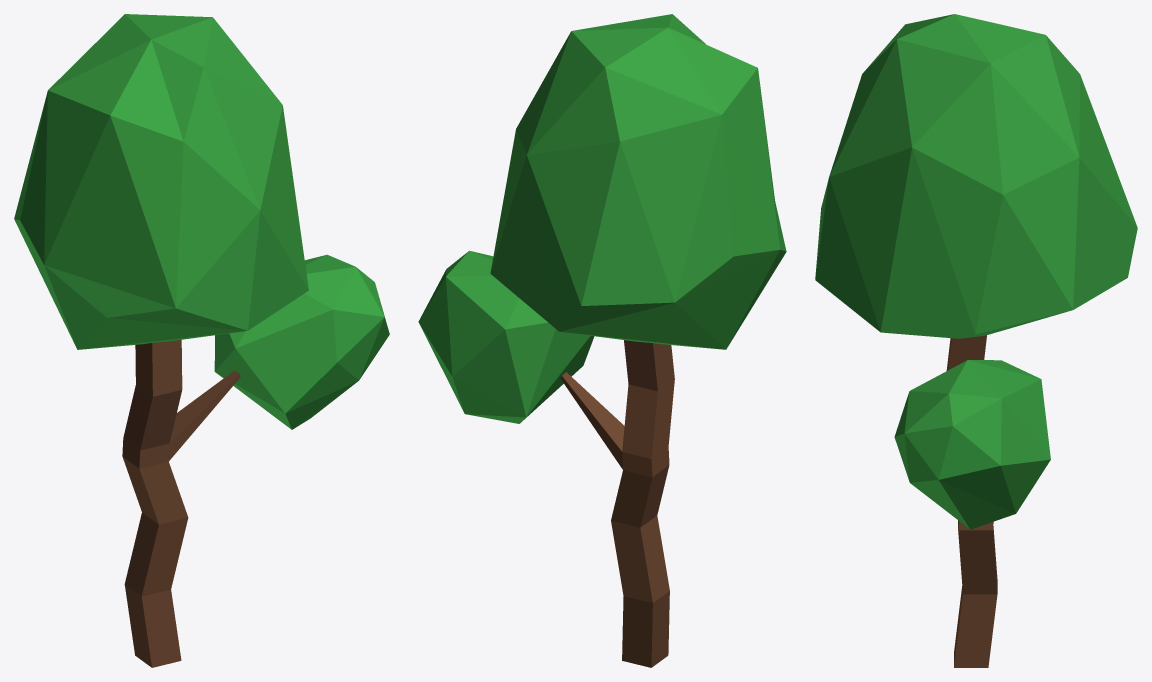
File: Tree_41_Green.fbx
The picture shows the model from 3 angles, left to right: view 1: azimuth 30°, elevation 25°; view 2: azimuth 150°, elevation 25°; view 3: azimuth 270°, elevation 25°; orthographic projection.
Parts seen in each view (by area): view 1: Tree_41_Green_Part_1, Tree_41_Green_Part_2; view 2: Tree_41_Green_Part_1, Tree_41_Green_Part_2; view 3: Tree_41_Green_Part_1, Tree_41_Green_Part_2.
Boxes of the visible parts, box(x1,y1,x2,y2) form: Tree_41_Green_Part_1: box(14, 14, 389, 429); Tree_41_Green_Part_2: box(122, 339, 240, 667); Tree_41_Green_Part_1: box(418, 14, 786, 423); Tree_41_Green_Part_2: box(560, 340, 674, 667); Tree_41_Green_Part_1: box(815, 14, 1137, 529); Tree_41_Green_Part_2: box(946, 335, 997, 667).
Bounding box in the file's own units: 450 × 794 × 363.
